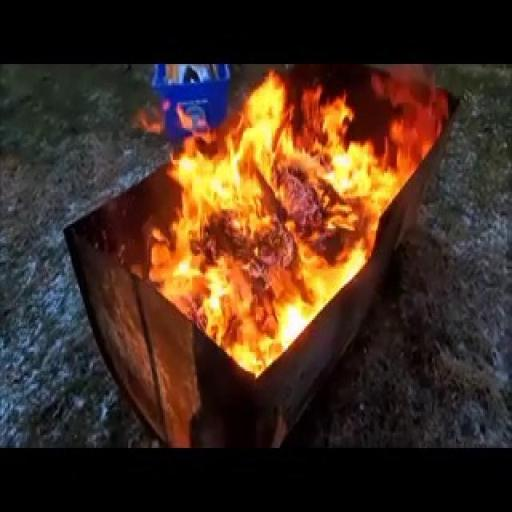smoke: (150, 66, 423, 388)
